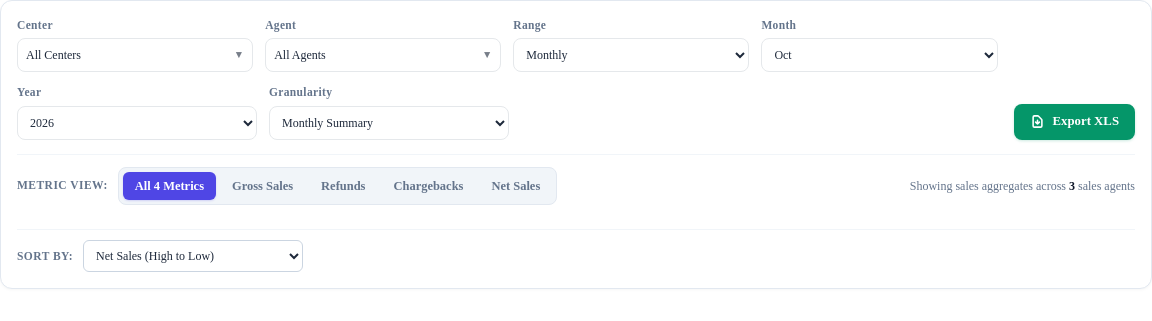
W-4403: ReportFilterBar Component (Advance Performance Chart Style) › Phase 46 — Synchronized "All" Checkboxes & Active/Inactive Group Filters › renders all individual Agent checkboxes as checked when selectedAgentIds is empty (All Agents)
Click the button with id "agent-select" at (383, 55), box [265,38,501,72]
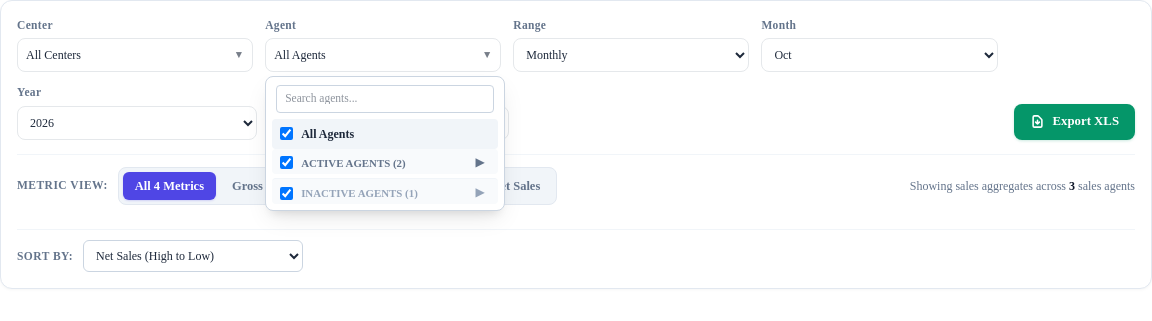
Expected: the checkbox named "Select all agents" is checked, [280,127,293,140]
// Expand both accordions to inspect individual checkboxes
Click the button named "toggle active agents accordion" at (480, 163), box [470,155,490,170]
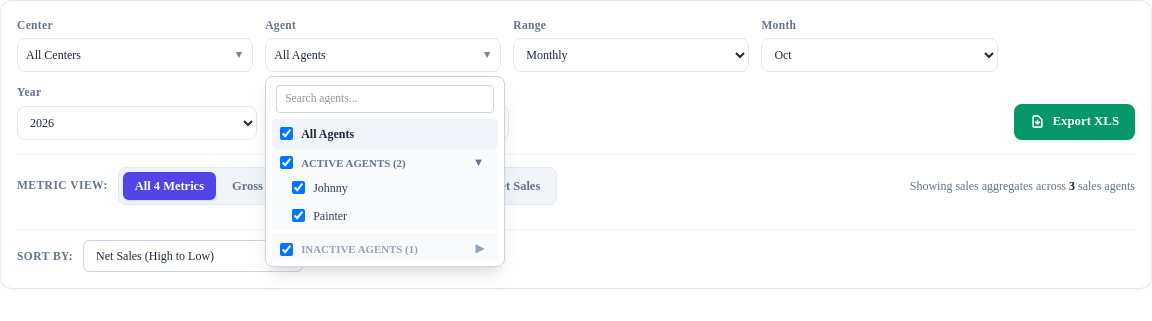
Click the button named "toggle inactive agents accordion" at (480, 249), box [470,241,490,257]
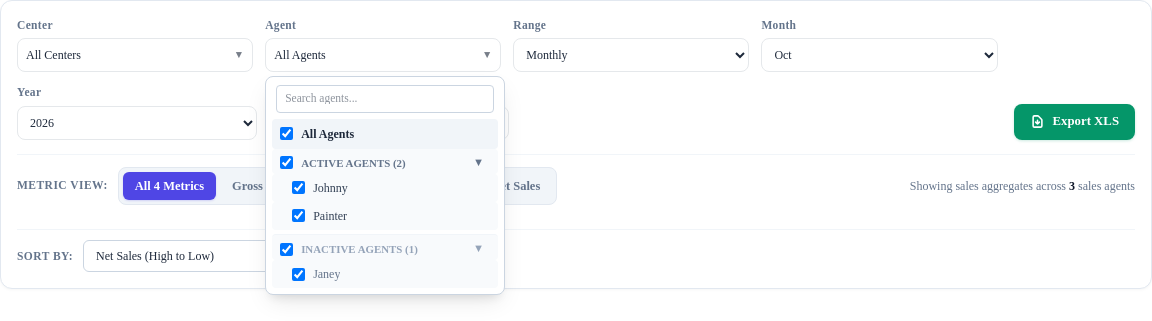
Expected: the checkbox next to "Johnny" is checked, [292,181,305,194]
Expected: the checkbox next to "Painter" is checked, [292,209,305,222]
Expected: the checkbox next to "Janey" is checked, [292,268,305,281]
